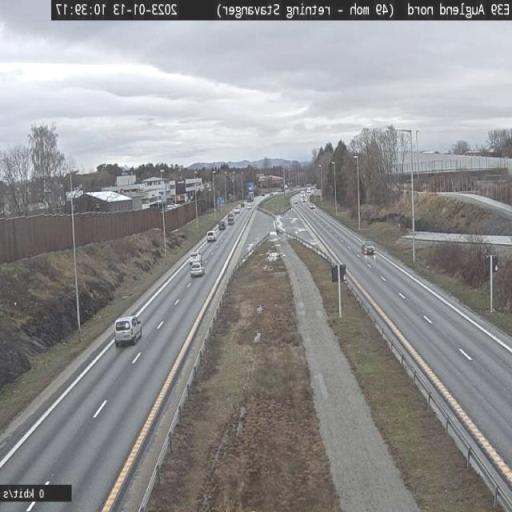vehicle: (87, 192, 132, 202), (189, 257, 205, 277), (362, 242, 376, 256), (206, 229, 217, 242)
